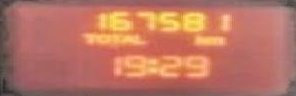1: (212, 11, 232, 31), (107, 53, 120, 76), (91, 9, 105, 28)
2: (156, 53, 180, 77)
5: (154, 10, 178, 31)
6: (105, 10, 131, 30)
7: (134, 8, 154, 31)
8: (180, 9, 205, 32)
9: (180, 53, 207, 77), (123, 53, 145, 77)
X: (203, 35, 223, 45), (145, 57, 156, 73), (80, 32, 94, 43), (118, 32, 132, 43), (131, 33, 145, 44), (94, 32, 107, 43), (192, 32, 203, 44), (107, 32, 118, 43)
